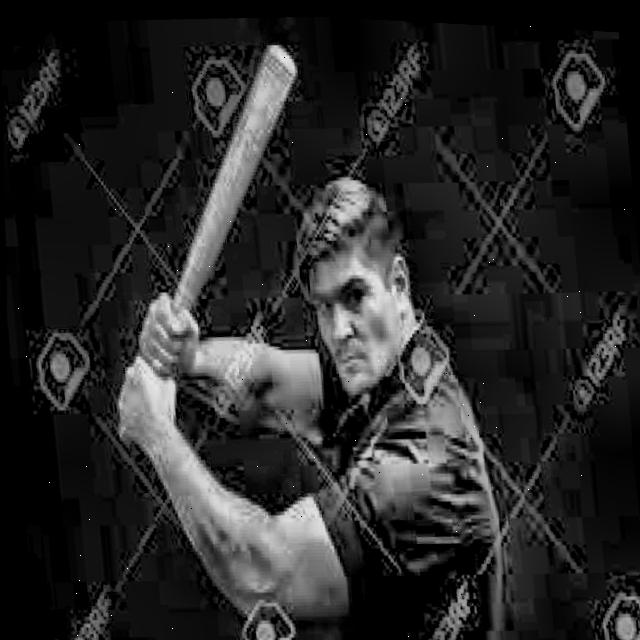tongkat pemukul: (106, 37, 303, 447)
